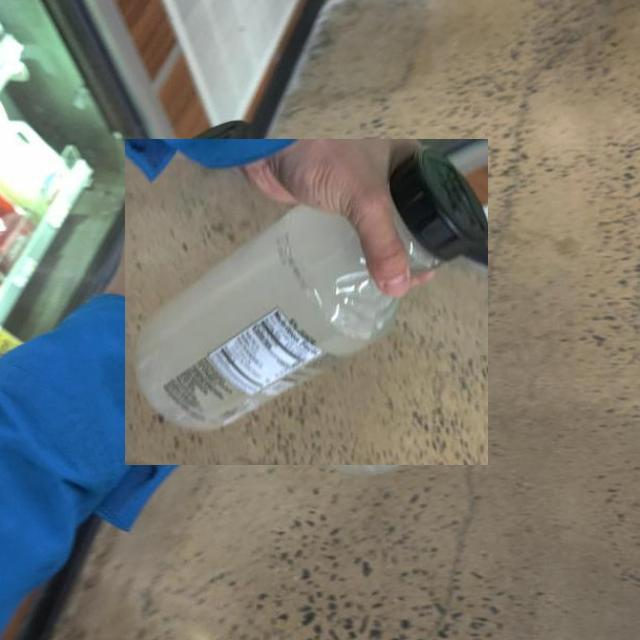Juice: (125, 139, 488, 465)
